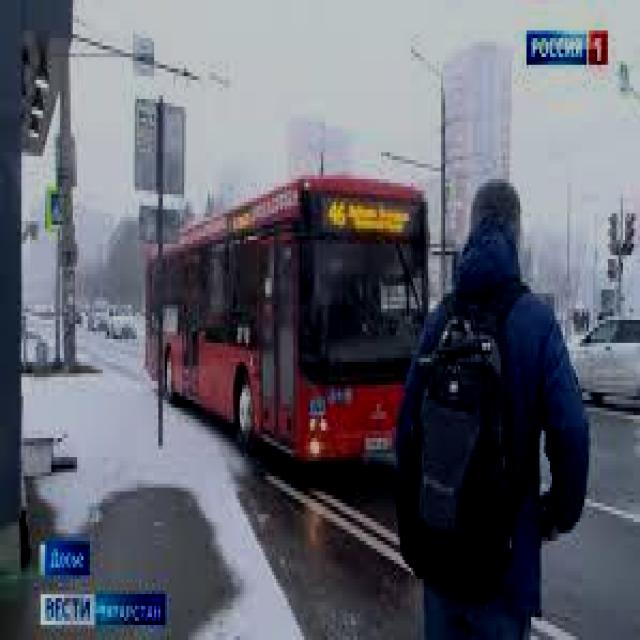bus: (140, 173, 438, 481)
